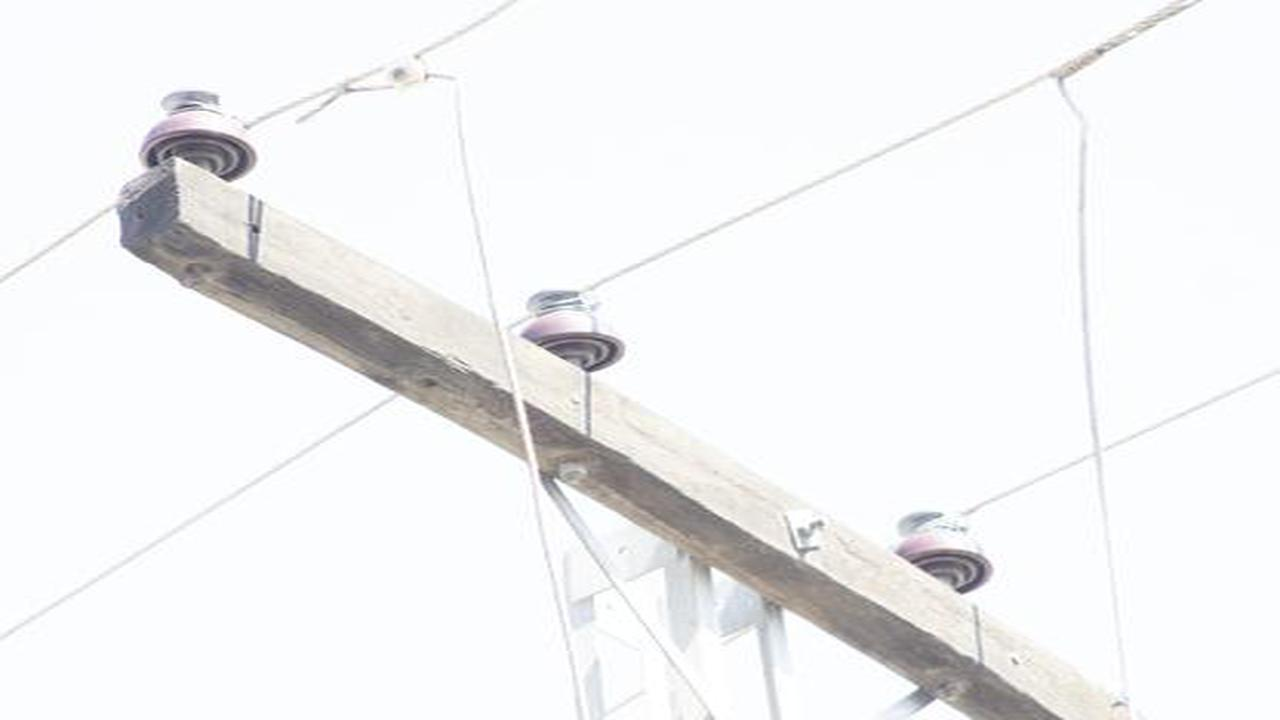insulator_pin: (137, 83, 262, 181), (521, 283, 628, 371), (898, 505, 997, 592)
